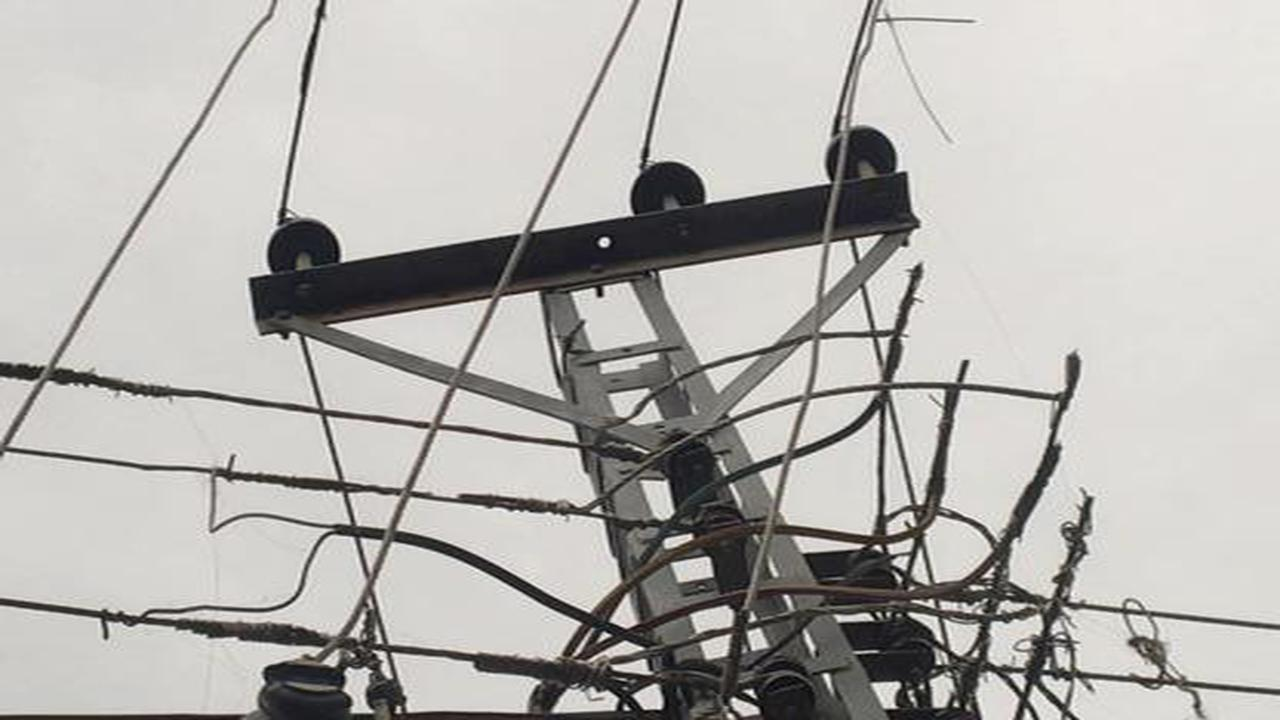insulator_pin: (627, 161, 712, 220), (263, 218, 347, 273), (824, 129, 903, 185)
